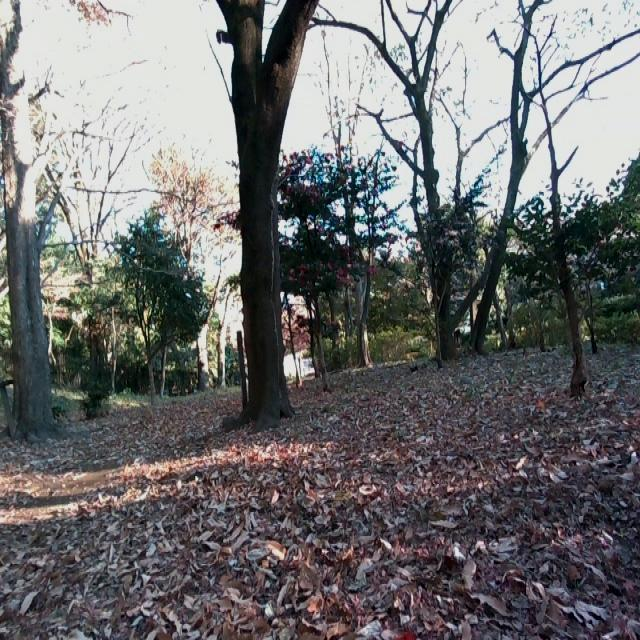tree: (206, 0, 329, 411), (329, 0, 460, 360), (454, 0, 565, 349), (0, 0, 80, 432), (526, 0, 601, 403), (137, 264, 175, 411)
